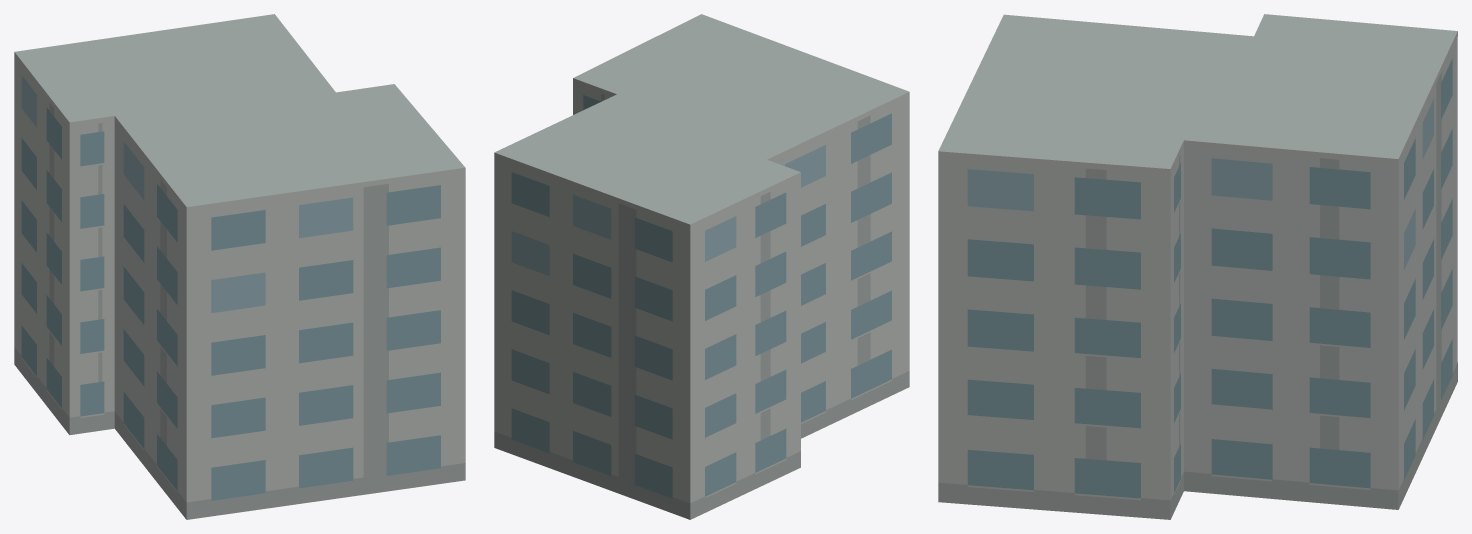
Rendered from survey-upis-32984097.glb.
The picture shows the model from 3 angles, left to right: view 1: azimuth 30°, elevation 25°; view 2: azimuth 150°, elevation 25°; view 3: azimuth 270°, elevation 25°; orthographic projection. The views are drawn at different scales.
Visible parts, largest first — view 1: survey-upis-32984097.tmp; view 2: survey-upis-32984097.tmp; view 3: survey-upis-32984097.tmp.
Boxes of the visible parts, box(x1,y1,x2,y2) form: survey-upis-32984097.tmp: box(14, 14, 465, 519); survey-upis-32984097.tmp: box(494, 14, 909, 519); survey-upis-32984097.tmp: box(938, 14, 1457, 519).
Bounding box in the file's own units: 13.85 × 14.6 × 19.6.
